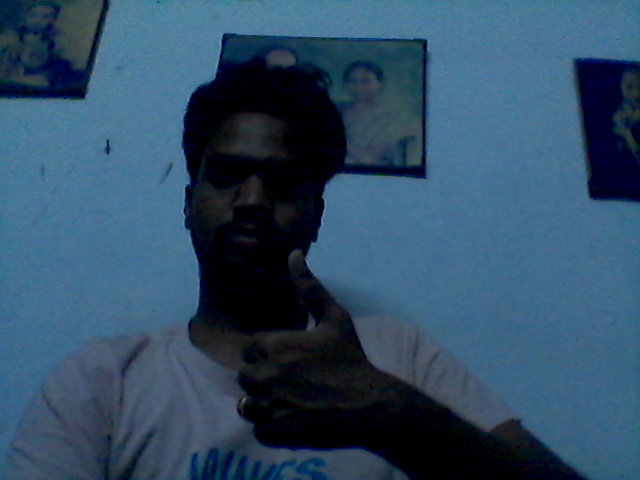Fine: (228, 243, 370, 459)
